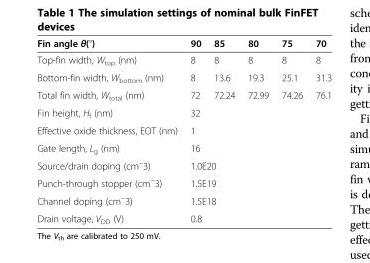table: (36, 36, 331, 224)
table column: (36, 36, 183, 224), (206, 36, 240, 224), (240, 36, 274, 224), (274, 36, 308, 224), (183, 36, 206, 224), (308, 36, 331, 224)
table column header: (36, 36, 331, 51)
table row: (36, 190, 331, 209), (36, 68, 331, 86), (36, 103, 331, 121), (36, 155, 331, 173), (36, 51, 331, 68), (36, 86, 331, 103), (36, 121, 331, 138), (36, 138, 331, 155), (36, 173, 331, 190), (36, 36, 331, 51), (36, 209, 331, 224)
table spanning cell: (183, 190, 331, 209), (183, 103, 331, 121), (183, 155, 331, 173), (183, 121, 331, 138), (183, 138, 331, 155), (183, 173, 331, 190), (183, 209, 331, 224)
